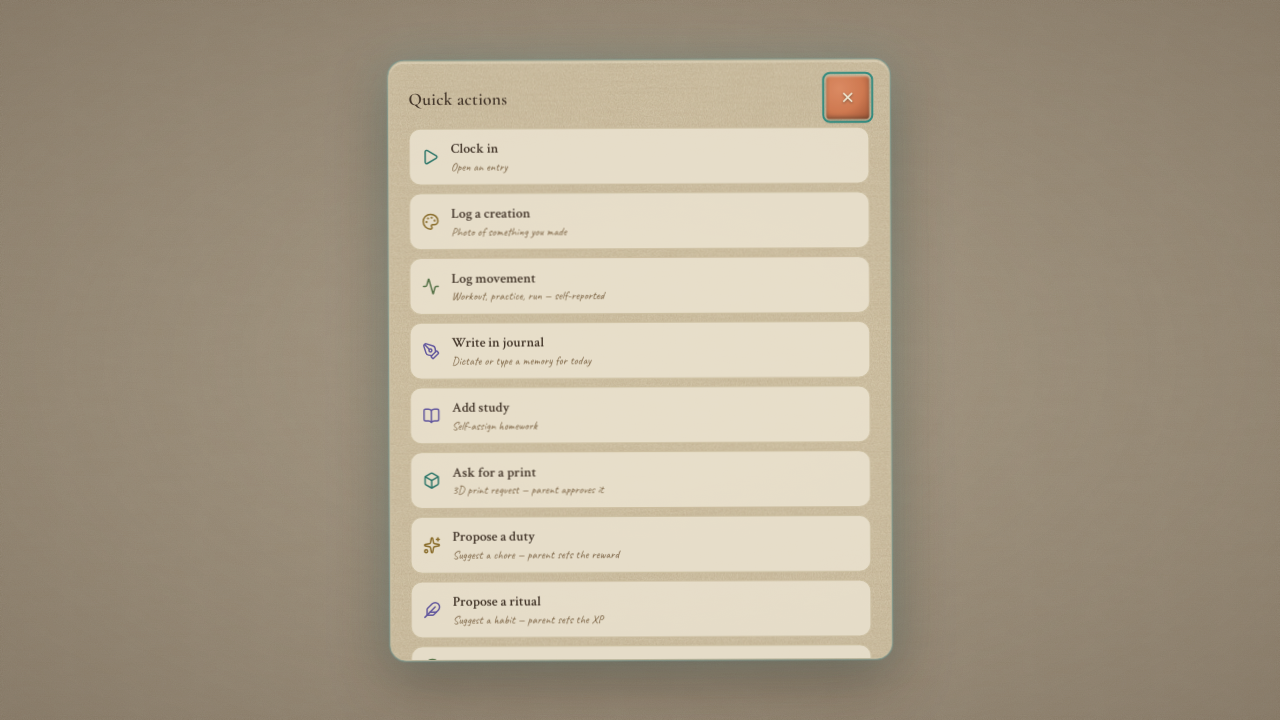
Test case: QuickActionsSheet › keeps the plain Clock in row (opening the picker pane) when nothing is remembered
The width and height of the screenshot is (1280, 720).
Click the button "Clock in Open an entry". click: (475, 149)
box: 409,127 -> 870,186
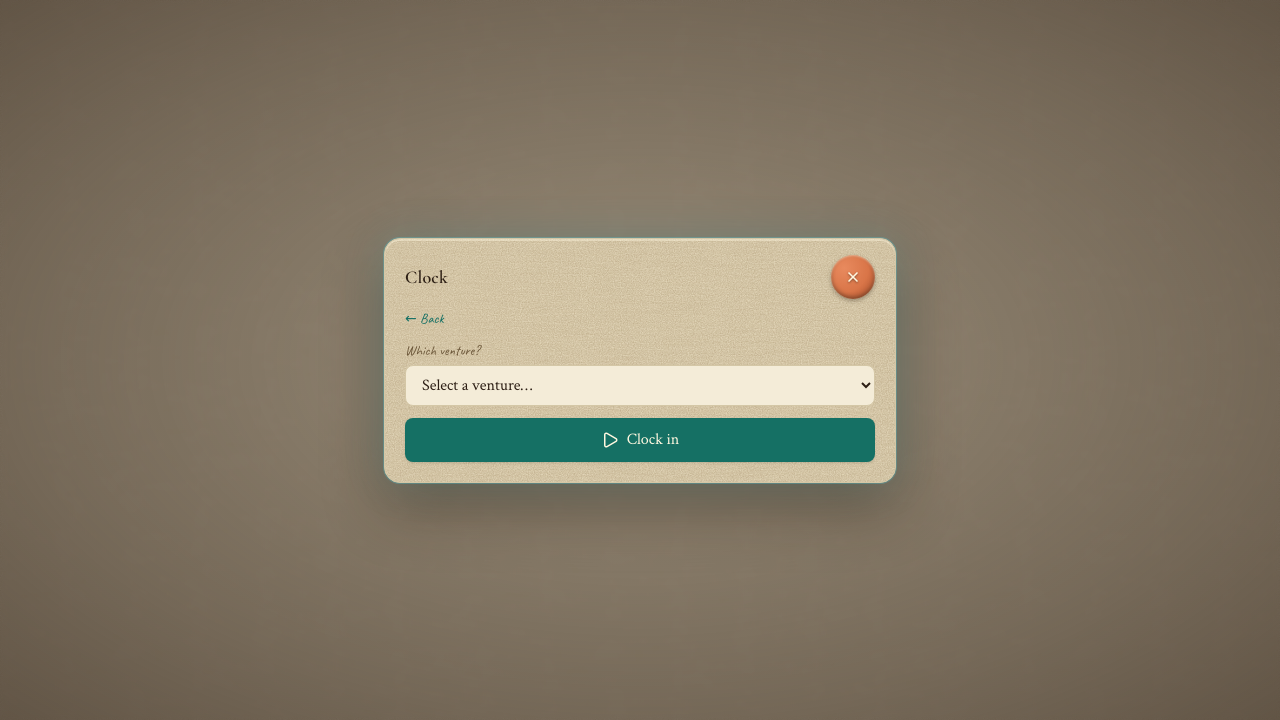
Check: the dropdown labelled "Which venture?" is shown, box 405,364 -> 875,406
